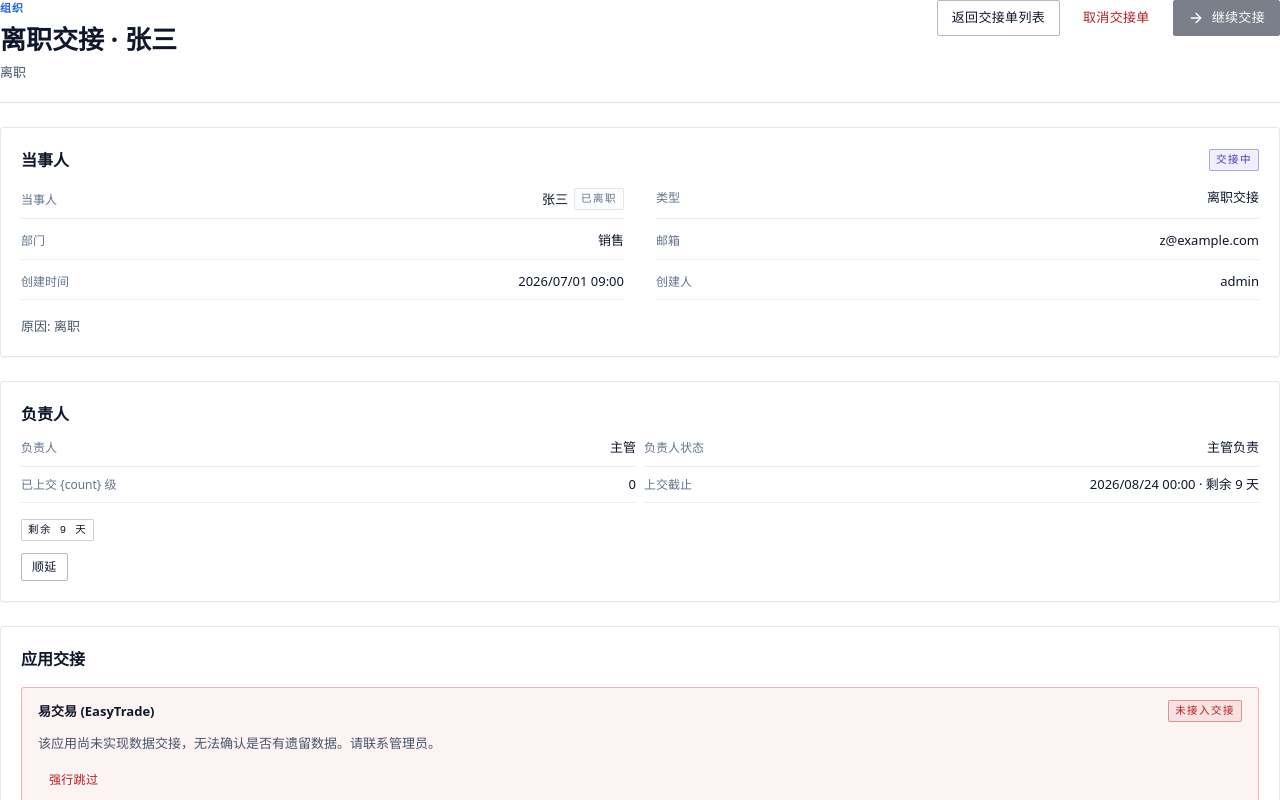
Scenario: HandoverTaskDetail › 跳过对话框必填理由
Click the button "强行跳过": (74, 780) x1=38 y1=766 x2=109 y2=794
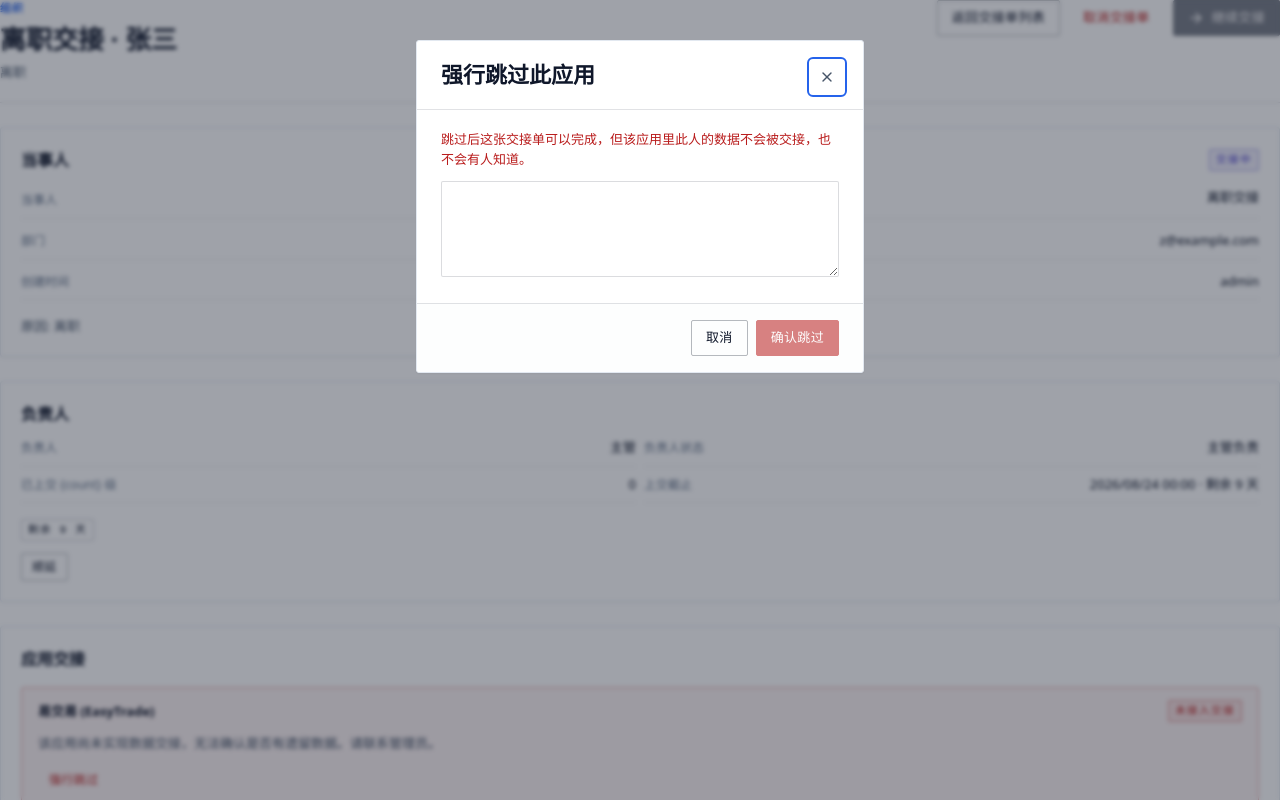
Expected: the button "确认跳过" is disabled, x1=756 y1=320 x2=839 y2=356
In the text box named "跳过理由": (640, 229) x1=441 y1=181 x2=839 y2=277, type "管理员确认无数据需要跳过"
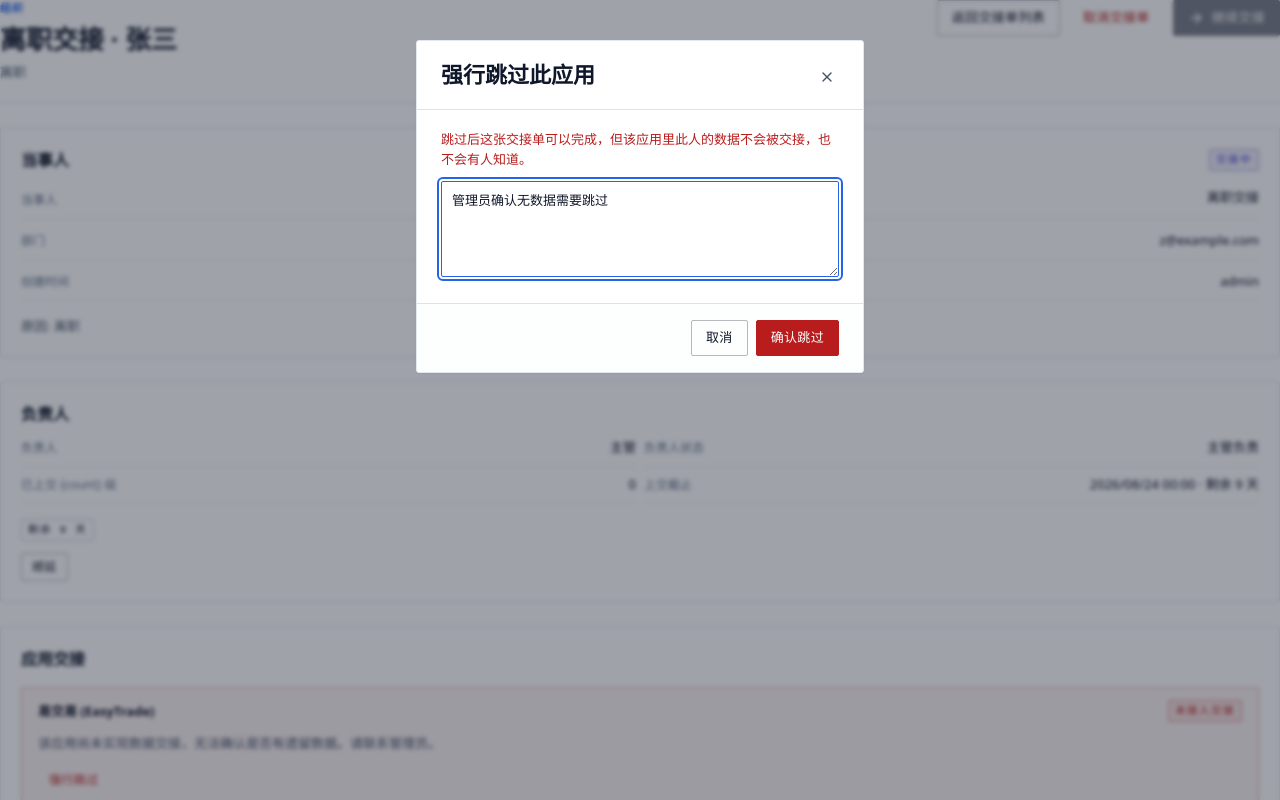
Expected: the button "确认跳过" is enabled, x1=756 y1=320 x2=839 y2=356
